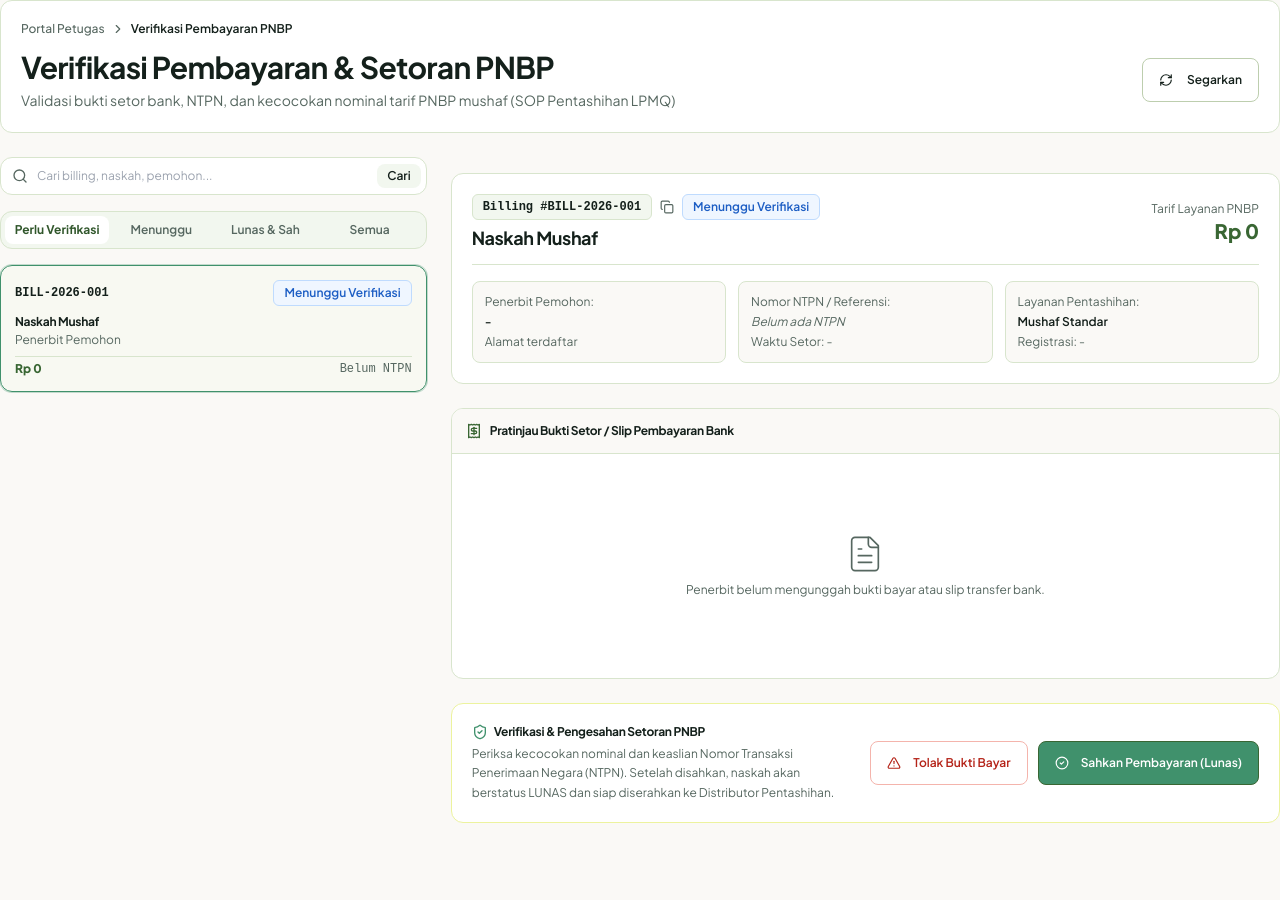
InternalPaymentQueuePage Component › menutup dialog dan menampilkan BAST bila pengesahan tersimpan tetapi responsnya gagal diterima
The width and height of the screenshot is (1280, 900).
Click the button "Sahkan Pembayaran (Lunas)": x=1148, y=763 left=1038, top=741, right=1259, bottom=785
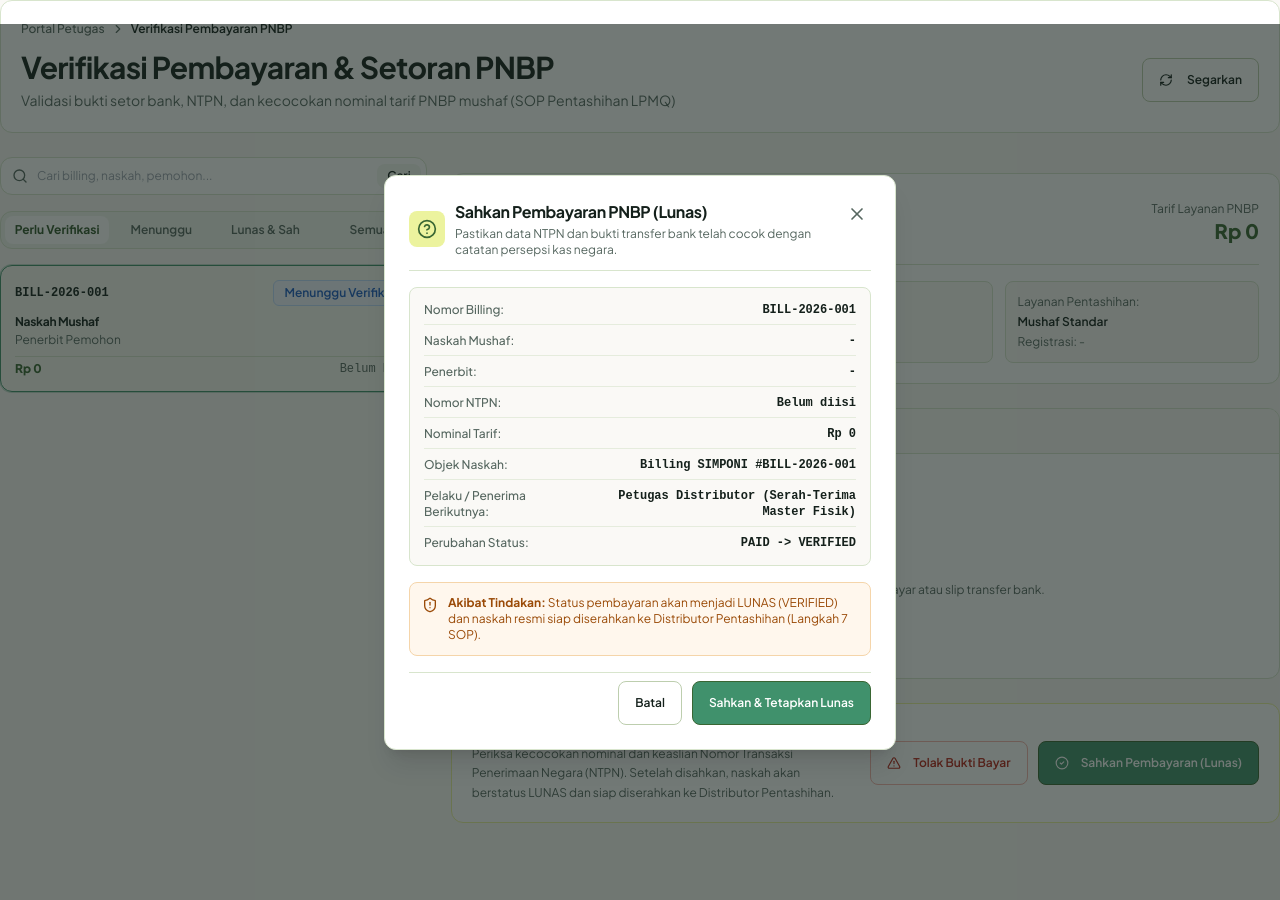
Click the button "Sahkan & Tetapkan Lunas": x=782, y=702 left=692, top=680, right=871, bottom=724
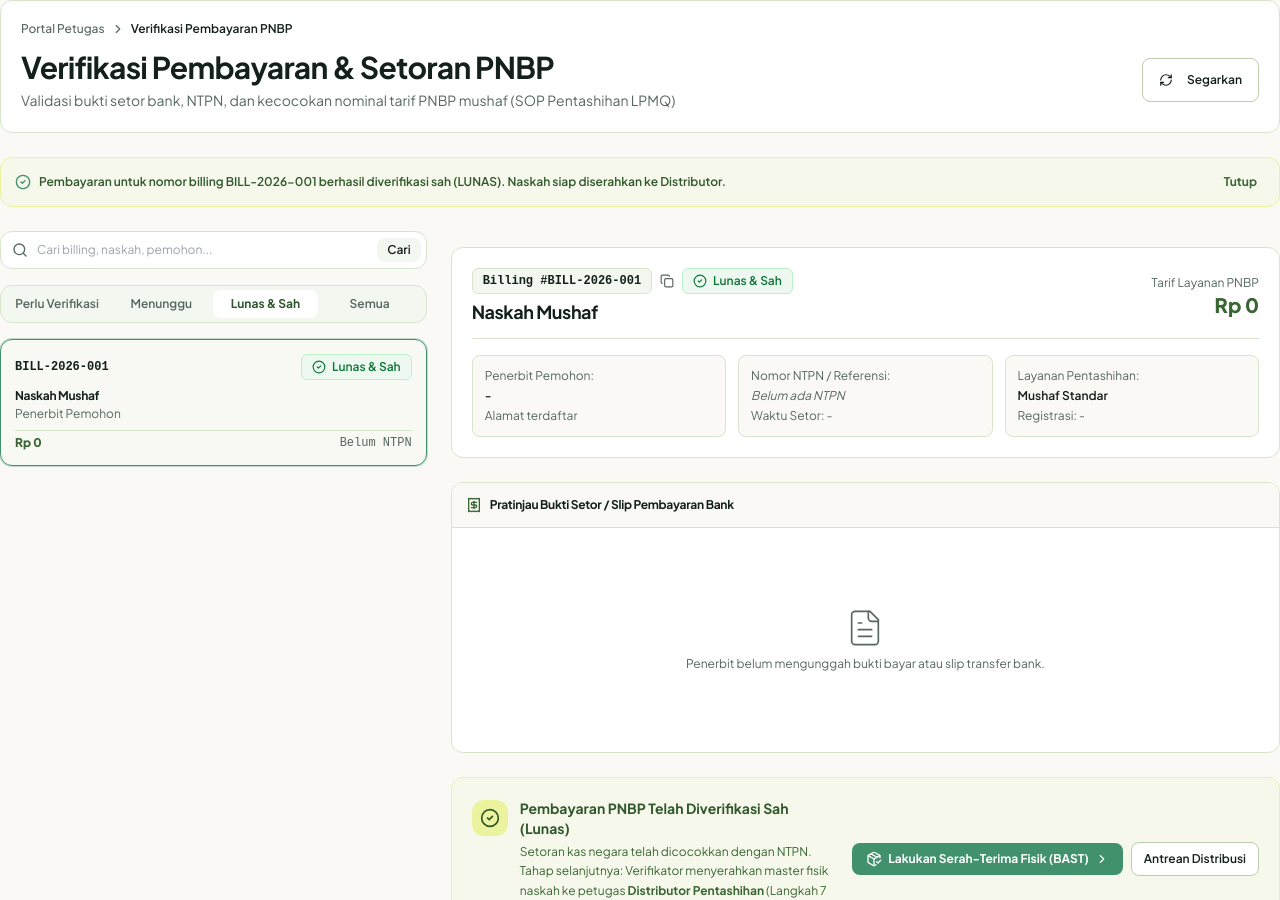
Expected: the text "Lakukan Serah-Terima Fisik (BAST)" is shown, left=888, top=851, right=1089, bottom=867
Expected: the dialog is gone
